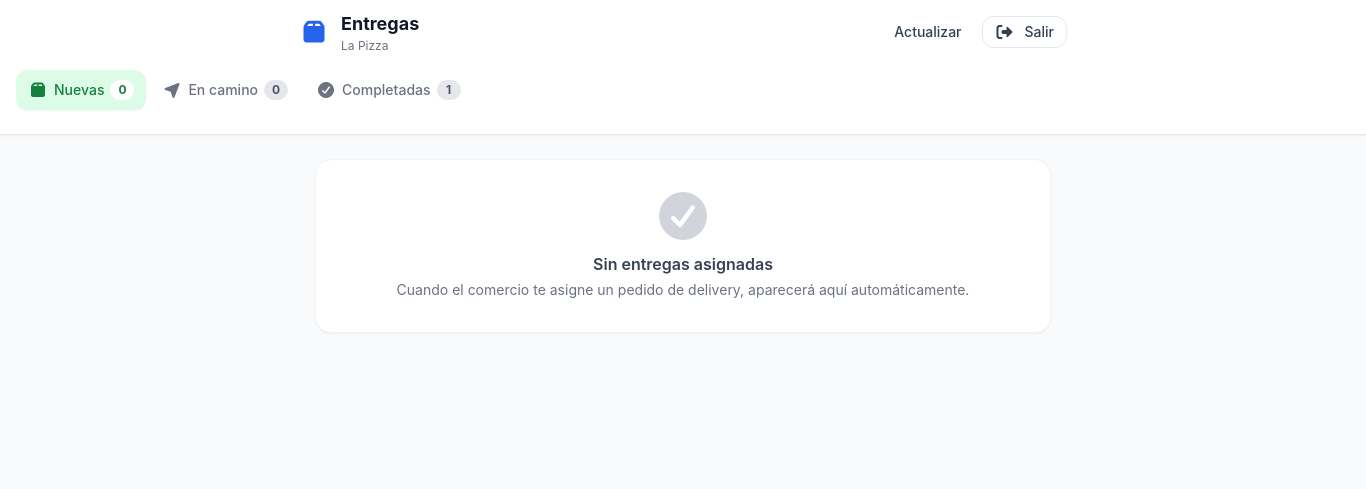
Test case: DriverDeliveriesPage › muestra solo las entregas completadas de hoy por defecto
Click the tab with test id "tab-delivered". click: (388, 90)
box: [304, 70, 472, 110]
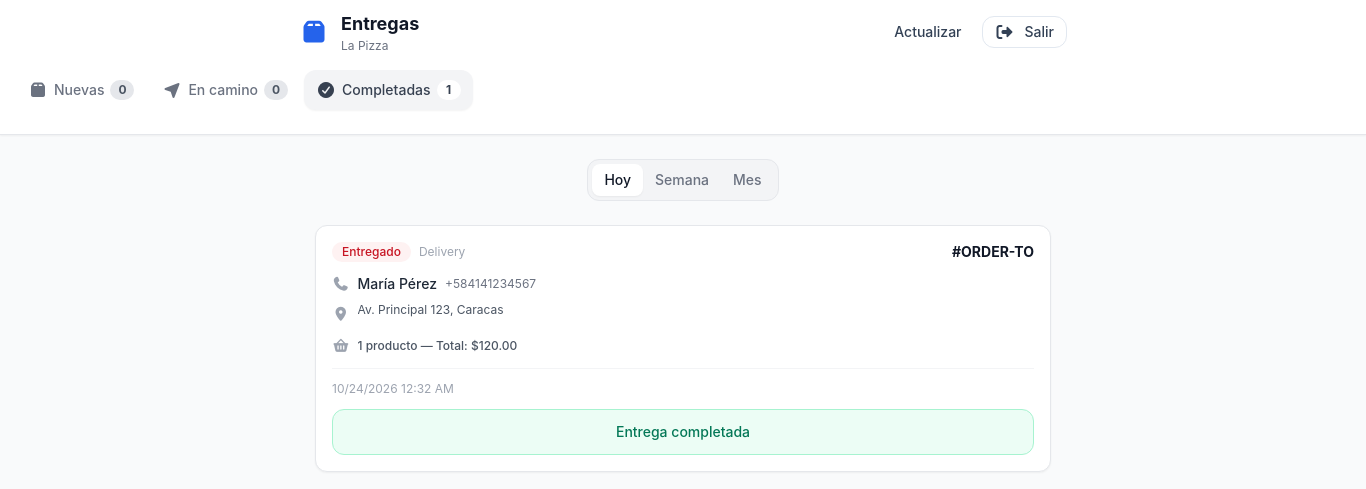
Now the number of buttons with test id "delivery-card" is 1, box [315, 225, 1051, 472]
